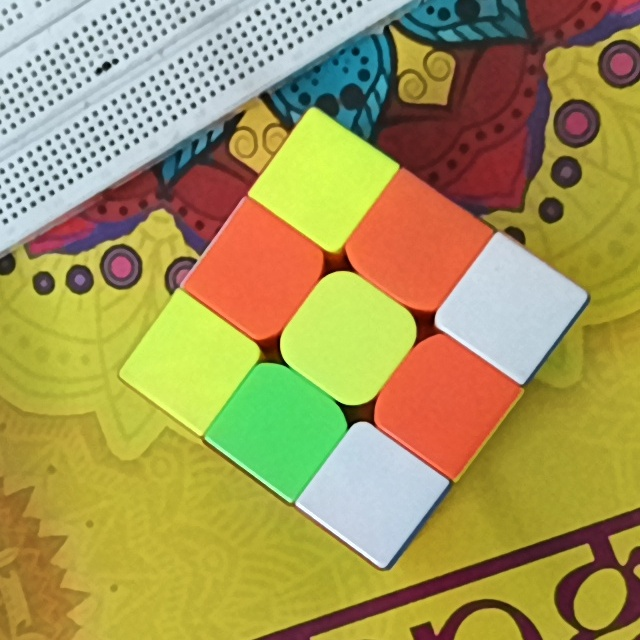tile: (377, 203, 455, 282), (472, 265, 550, 344), (408, 360, 486, 439), (312, 296, 387, 377), (223, 230, 295, 314), (241, 389, 317, 467), (335, 454, 411, 529), (157, 322, 227, 397), (284, 147, 360, 216)
